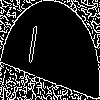I: (25, 24, 40, 73)
